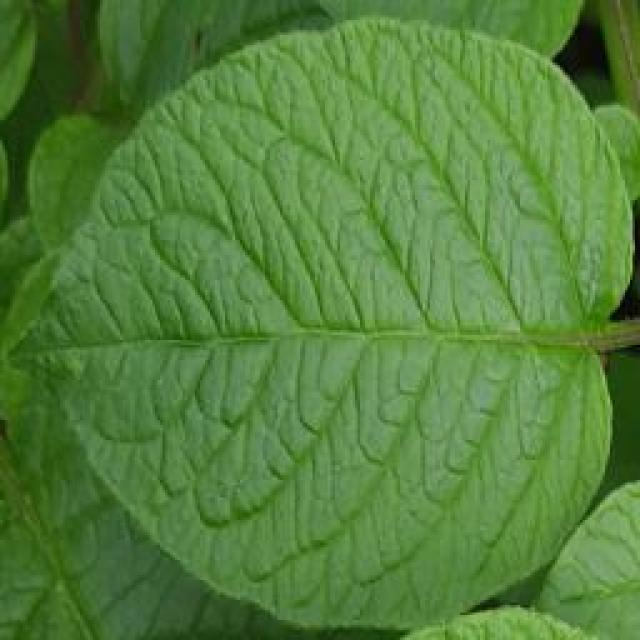healthy: (5, 13, 637, 635)
